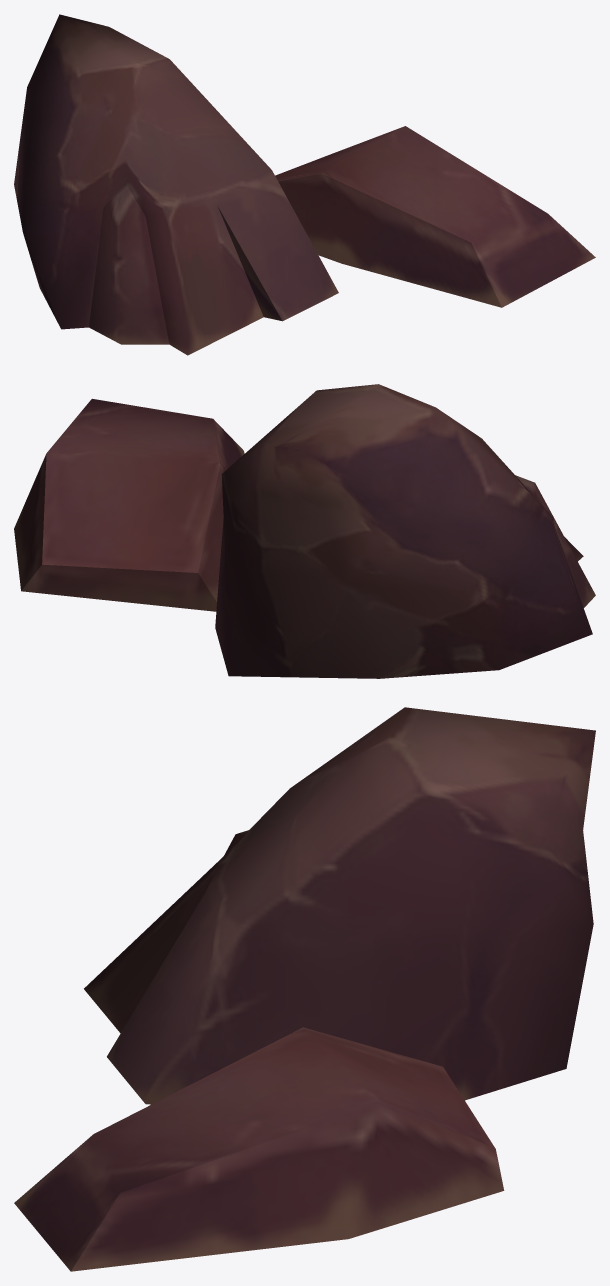
Rendered from xbw_shiqiang_06.FBX.
3 views of the same model, one above another, from view 1: azimuth 30°, elevation 25°; view 2: azimuth 150°, elevation 25°; view 3: azimuth 270°, elevation 25° (orthographic). The views are drawn at different scales.
Parts seen in each view (by area): view 1: xbw_shiqiang_06; view 2: xbw_shiqiang_06; view 3: xbw_shiqiang_06.
Boxes of the visible parts, x1,y1,x2,y2 form: xbw_shiqiang_06: (14, 14, 595, 355); xbw_shiqiang_06: (14, 384, 595, 678); xbw_shiqiang_06: (14, 707, 595, 1271).
Bounding box in the file's own units: 3.42 × 1.41 × 2.48.
